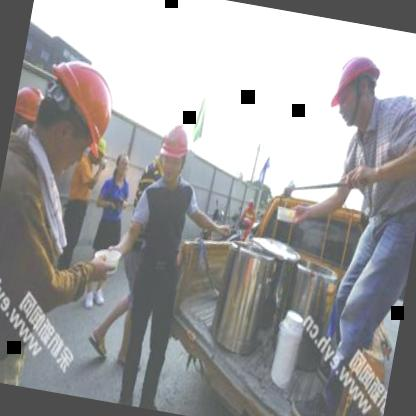helmet: (25, 58, 122, 176), (324, 44, 385, 138), (152, 124, 196, 188), (11, 82, 46, 136), (86, 135, 112, 170)
